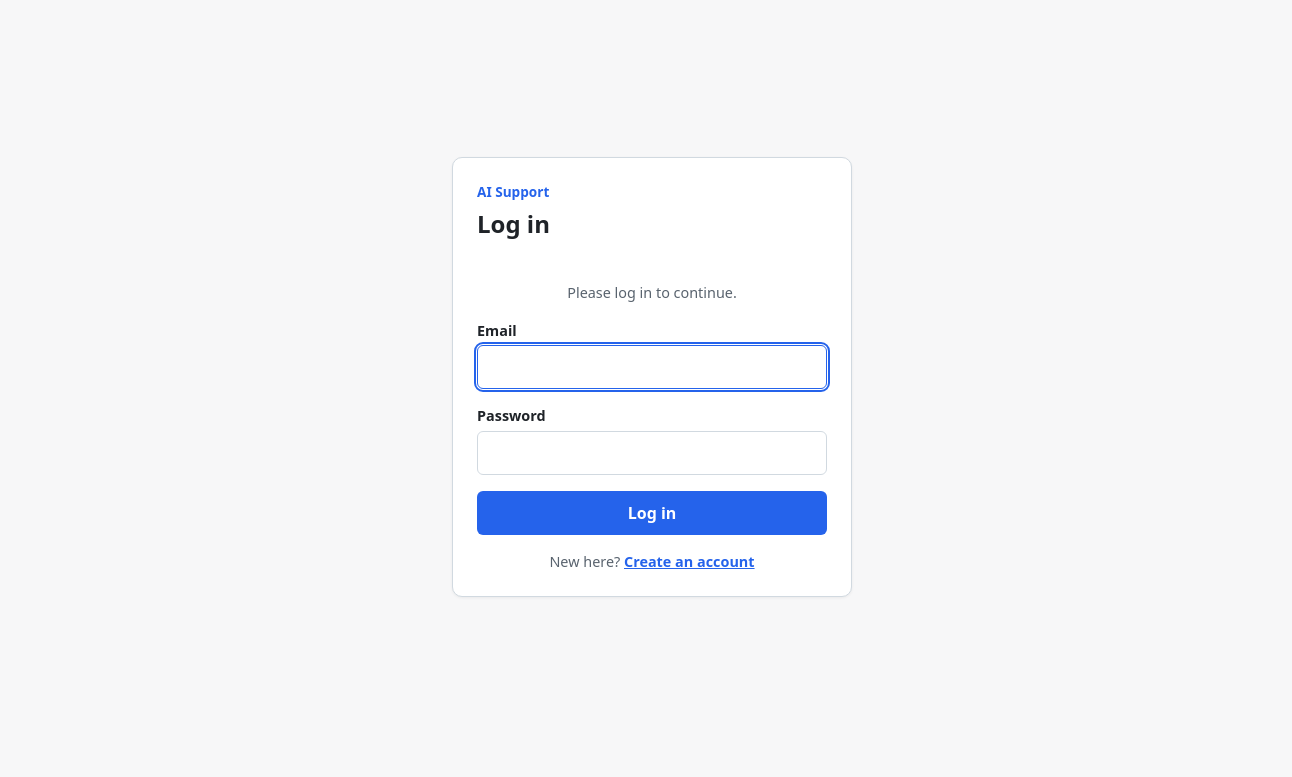
Test: Login page › AUTH-05: returns the user to the page they originally asked for
The width and height of the screenshot is (1292, 777).
Expected: the text "Please log in to continue." is shown, 567,283 -> 737,302
Type "jane@example.com" into the field labelled "Email" at (652, 367), box 477,345 -> 827,389
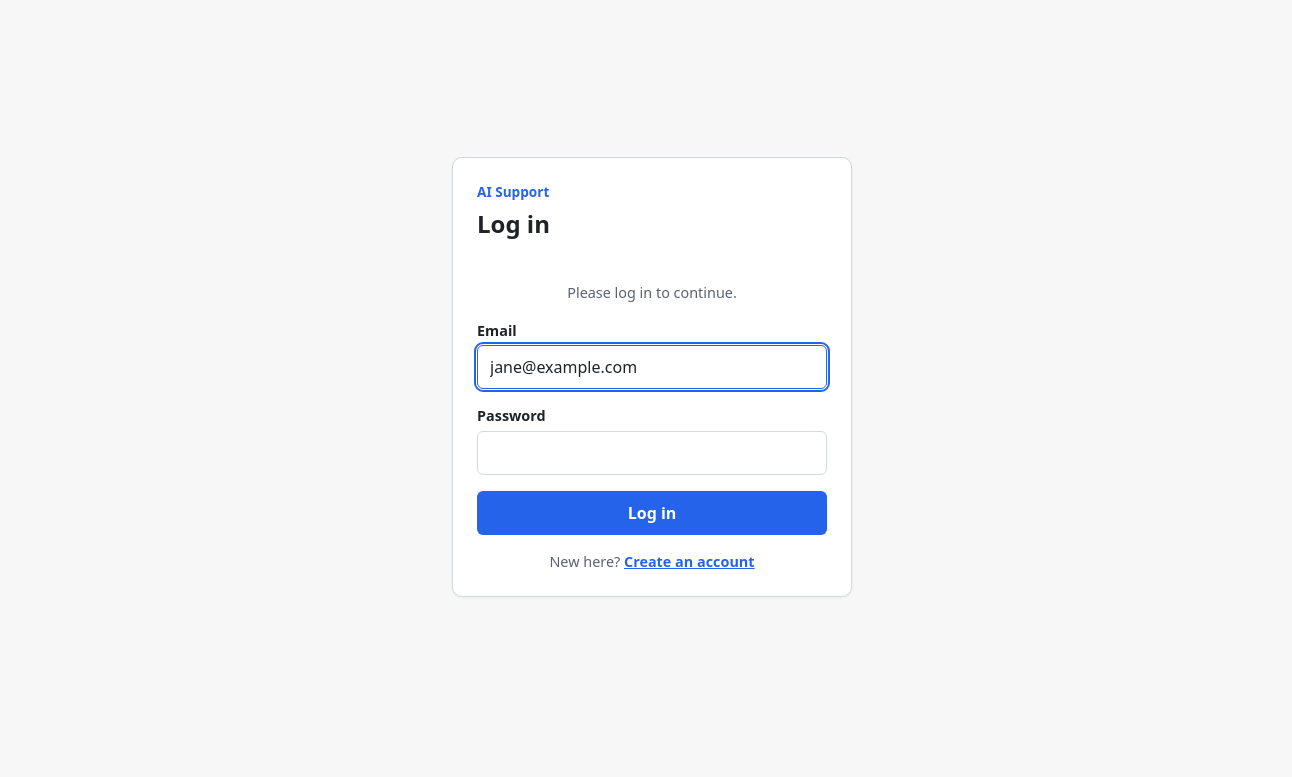
Type "correct-horse" into the password field labelled "Password" at (652, 453), box 477,431 -> 827,475
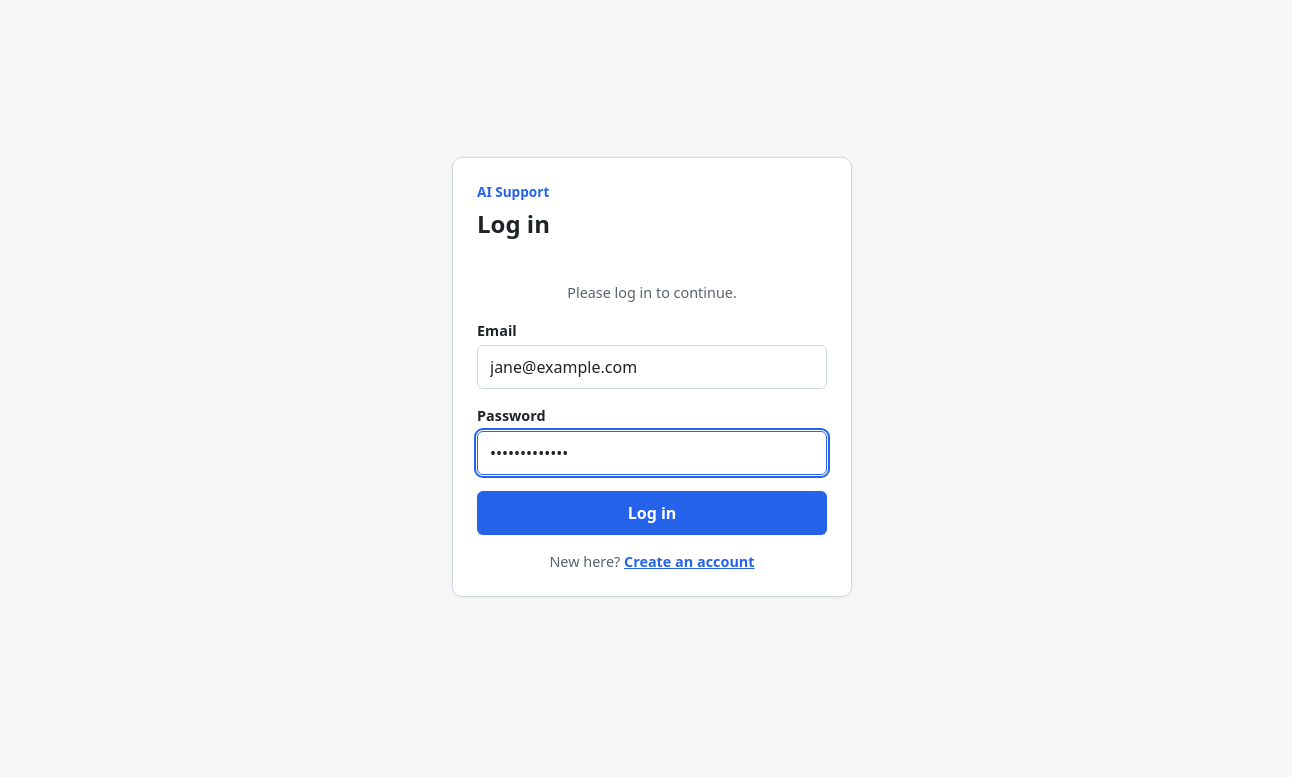
Click the button "Log in" at (652, 513), box 477,491 -> 827,535
(page scrolled)
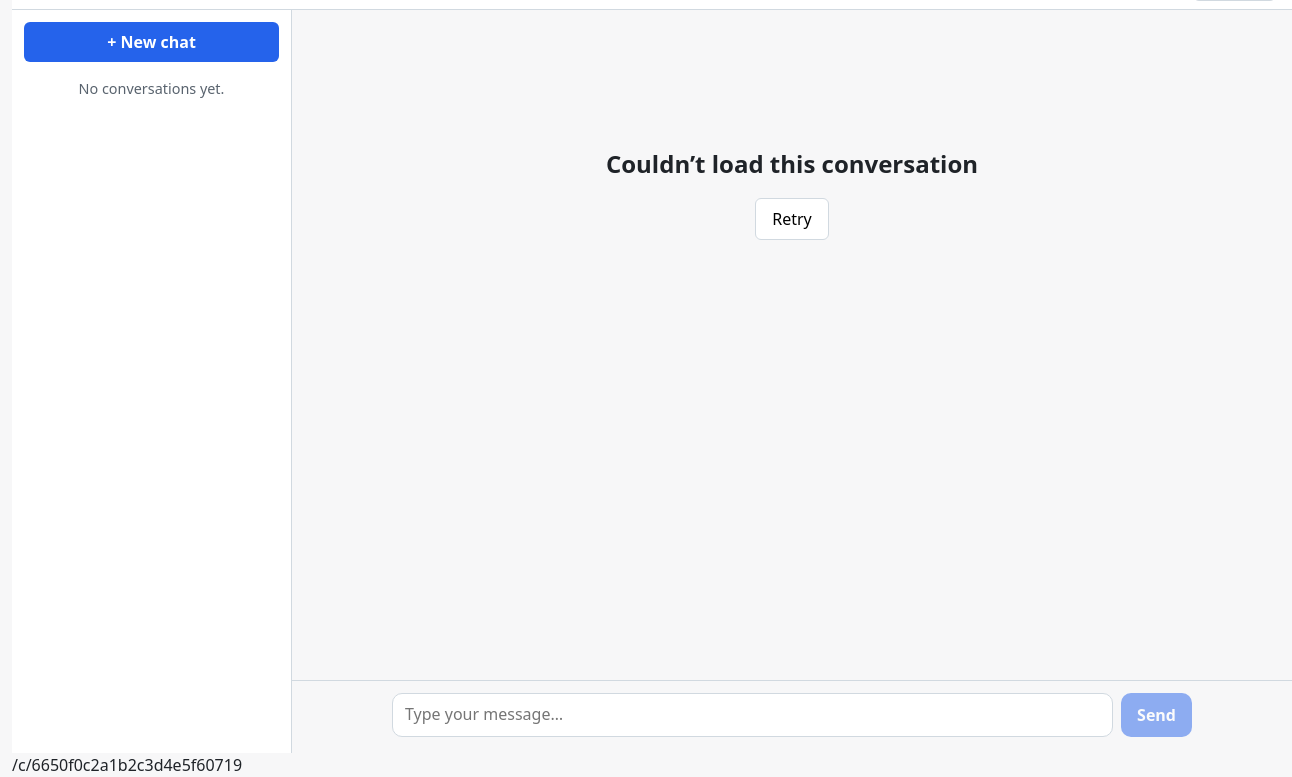
Expected: the text with test id "location" reads "/c/6650f0c2a1b2c3d4e5f60719", 12,754 -> 242,776
